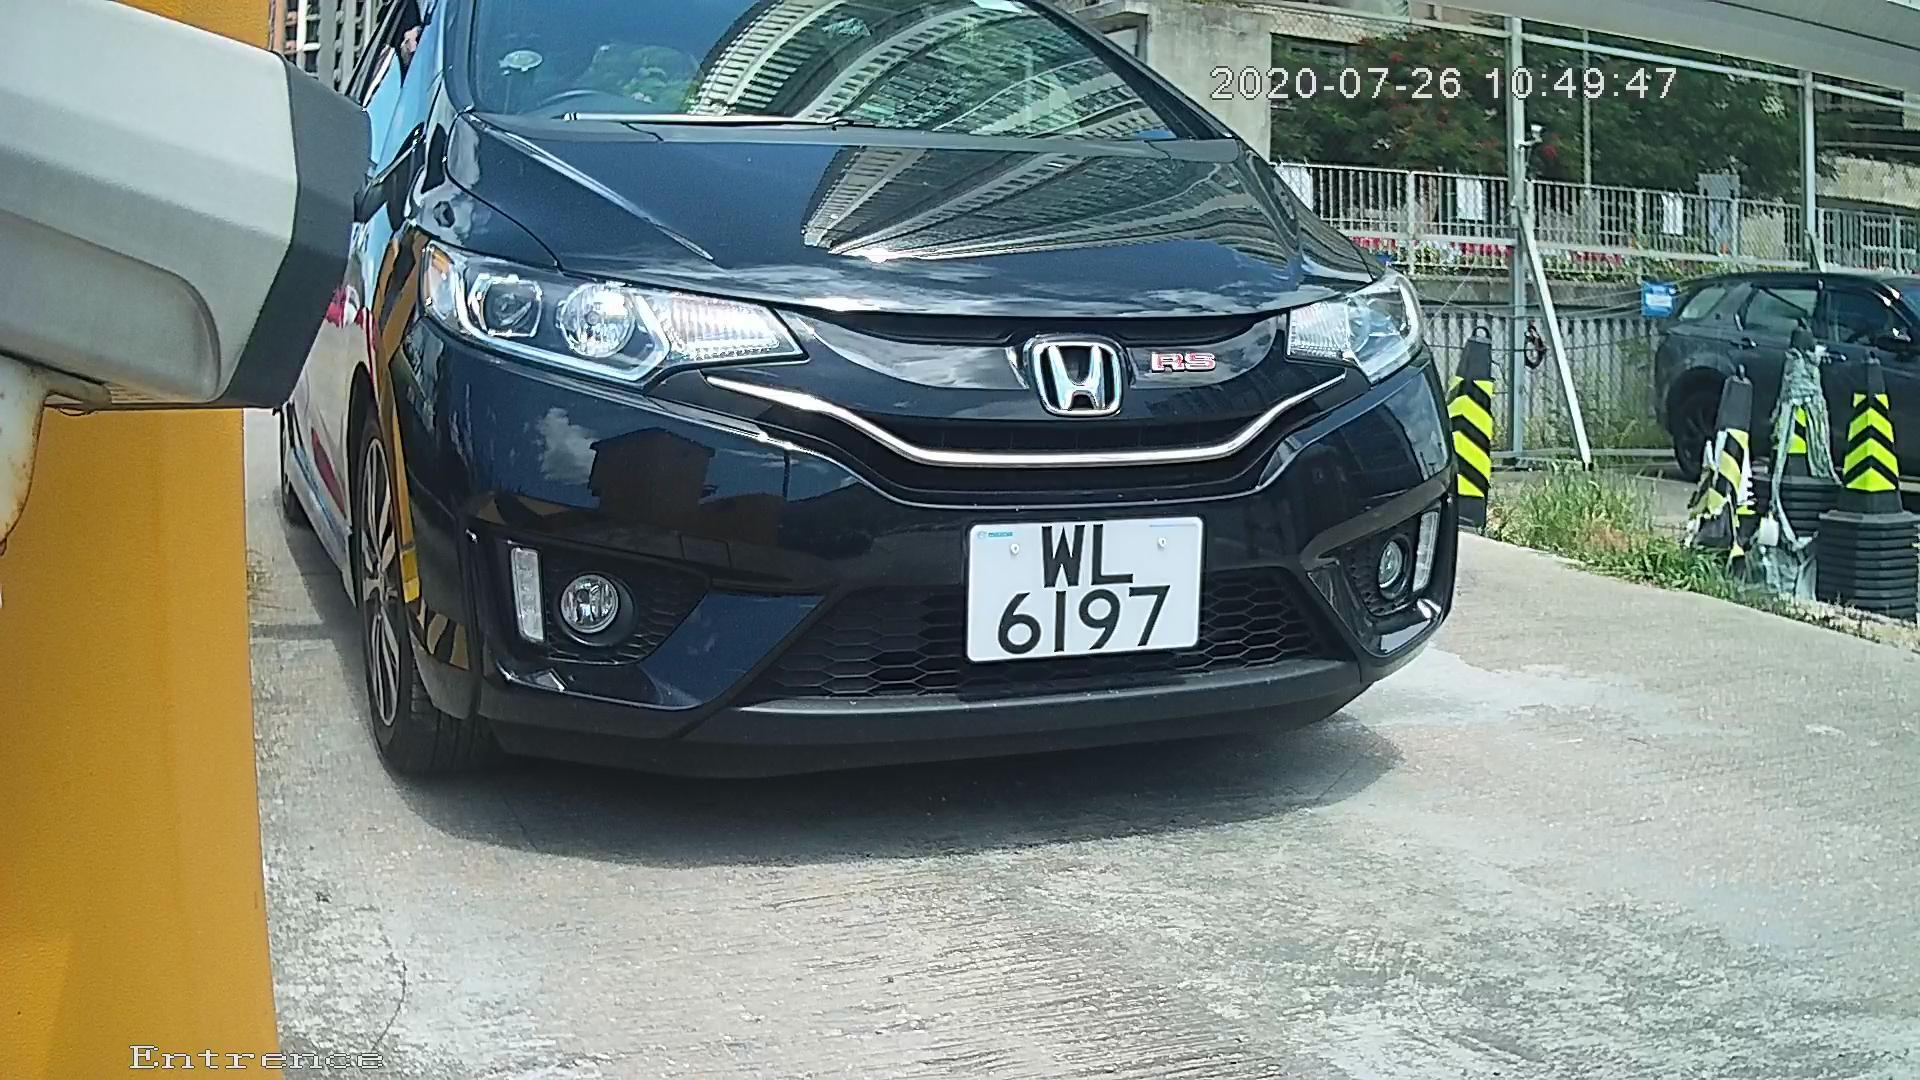privatecar: (206, 34, 1586, 829)
